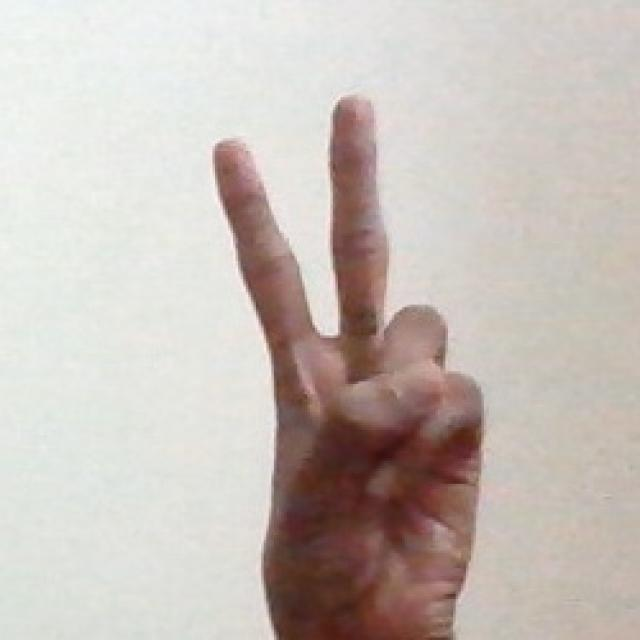Numeric-2: (206, 92, 484, 620)
